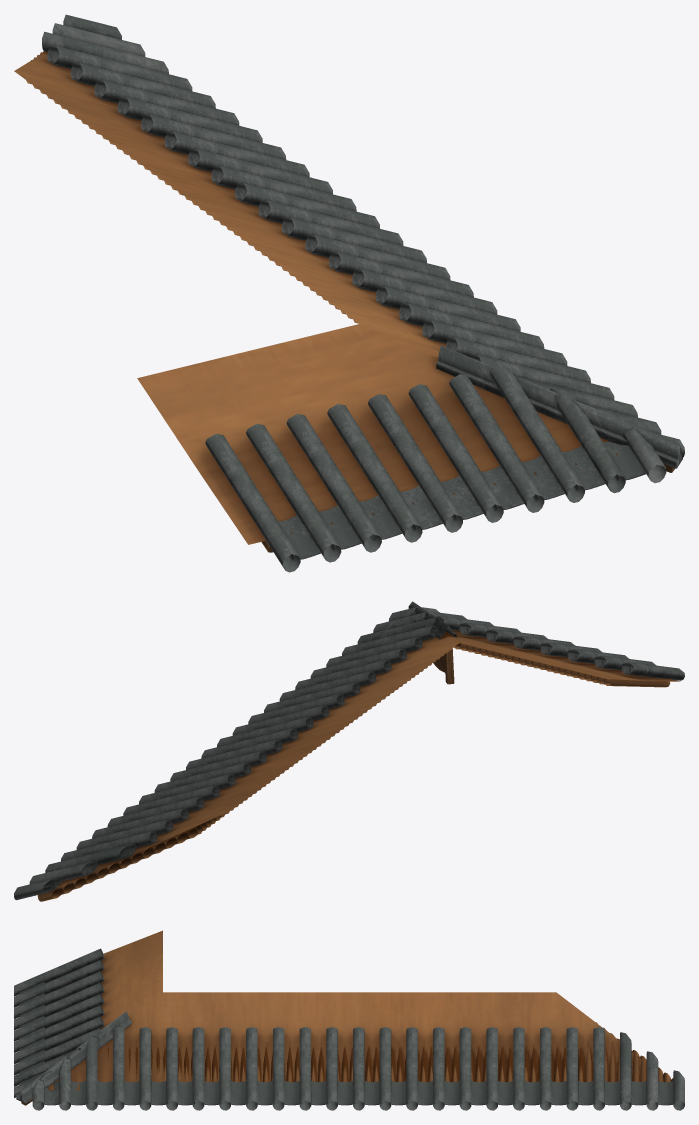
File: TraditionalKoreanHouse_Roof.fbx
3 renders of one model, top to bottom at view 1: azimuth 30°, elevation 25°; view 2: azimuth 150°, elevation 25°; view 3: azimuth 270°, elevation 25°, orthographic. The views are drawn at different scales.
Parts seen in each view (by area): view 1: TraditionalKoreanHouse_Roof; view 2: TraditionalKoreanHouse_Roof; view 3: TraditionalKoreanHouse_Roof.
Part boxes in pixels (<box>): TraditionalKoreanHouse_Roof: <box>14,14,684,572</box>; TraditionalKoreanHouse_Roof: <box>14,601,684,901</box>; TraditionalKoreanHouse_Roof: <box>14,930,684,1110</box>.
Bounding box in the file's own units: 471 × 112 × 1110.
